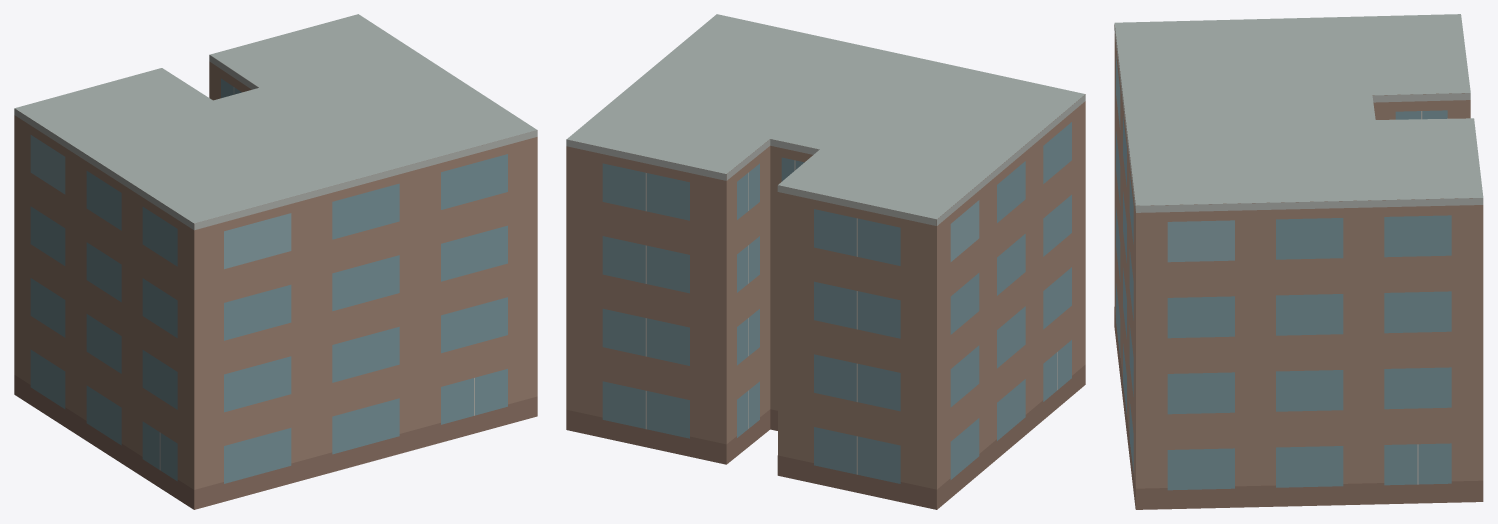
Rendered from survey-upis-33045361.glb.
3 views of the same model, side by side, from view 1: azimuth 30°, elevation 25°; view 2: azimuth 150°, elevation 25°; view 3: azimuth 270°, elevation 25° (orthographic). The views are drawn at different scales.
Visible parts, largest first — view 1: survey-upis-33045361.tmp; view 2: survey-upis-33045361.tmp; view 3: survey-upis-33045361.tmp.
Boxes of the visible parts, <box> form: survey-upis-33045361.tmp: <box>14,14,537,509</box>; survey-upis-33045361.tmp: <box>566,14,1085,509</box>; survey-upis-33045361.tmp: <box>1114,14,1483,509</box>.
Bounding box in the file's own units: 14.05 × 10.38 × 11.42.
